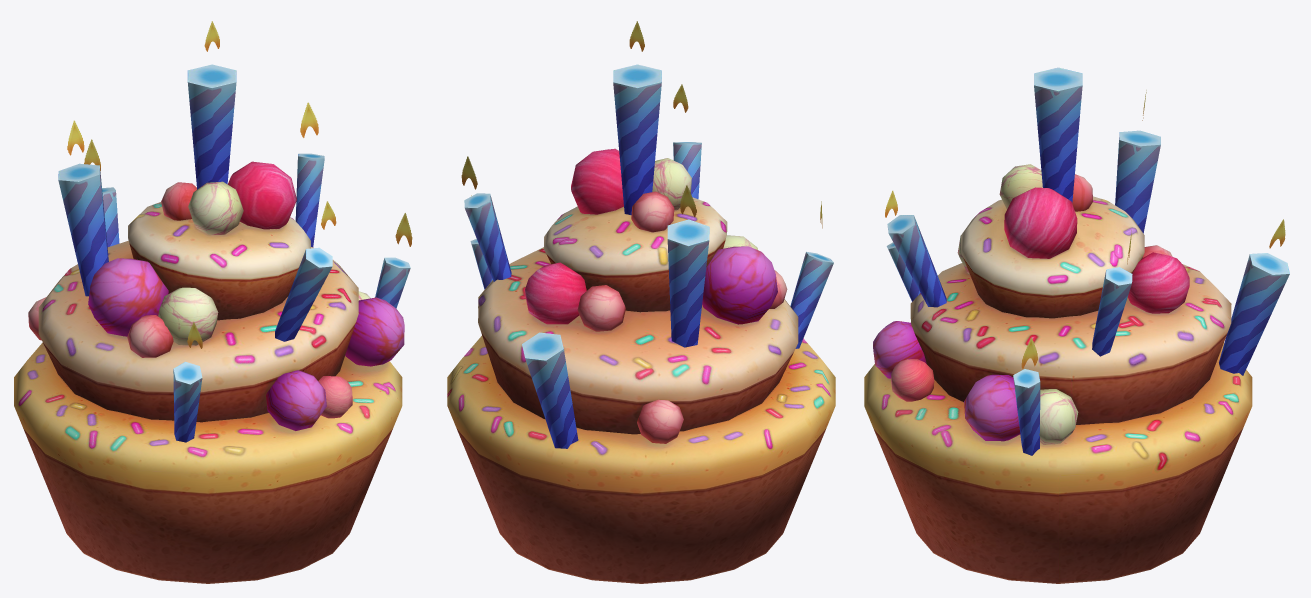
Rendered from SE_Cake_01.fbx.
3 views of the same model, side by side, from view 1: azimuth 30°, elevation 25°; view 2: azimuth 150°, elevation 25°; view 3: azimuth 270°, elevation 25° (orthographic).
Visible parts, largest first — view 1: SE_Cake_01; view 2: SE_Cake_01; view 3: SE_Cake_01.
Boxes of the visible parts, <box> form: SE_Cake_01: <box>14,21,412,583</box>; SE_Cake_01: <box>447,21,835,583</box>; SE_Cake_01: <box>864,67,1289,583</box>.
Bounding box in the file's own units: 3.01 × 4.16 × 3.12.
